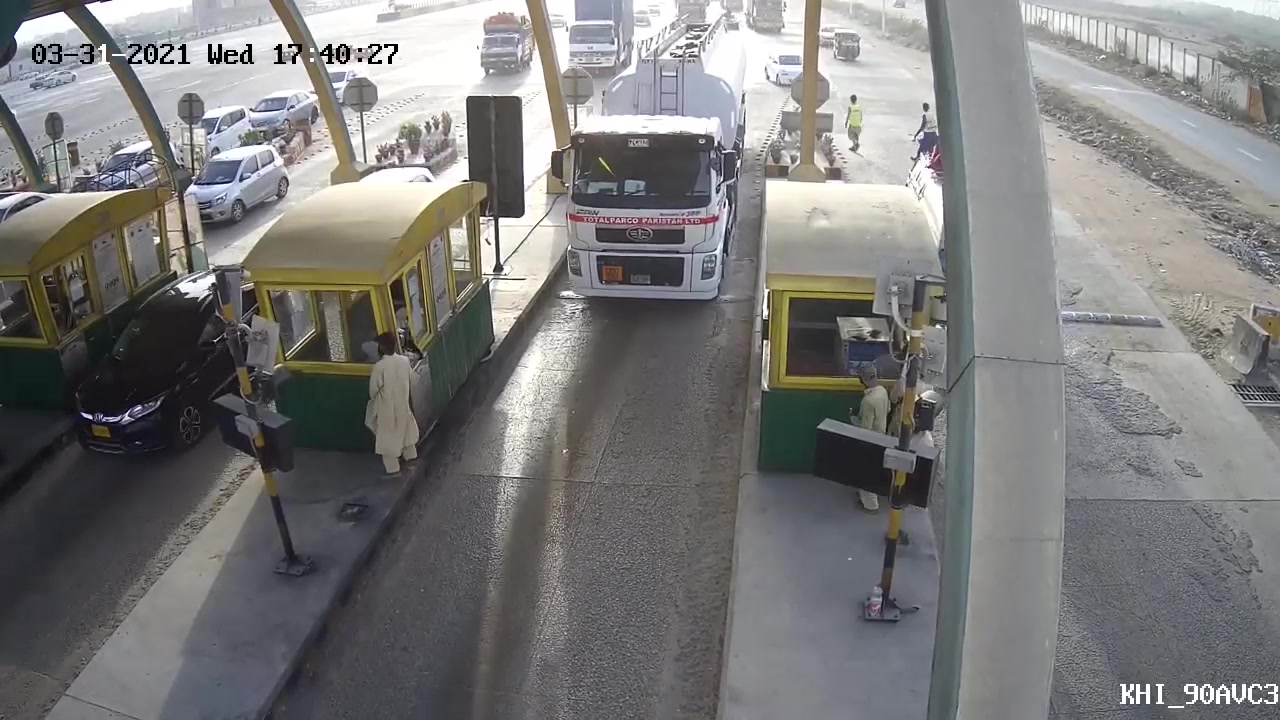F6: (548, 74, 746, 330)
